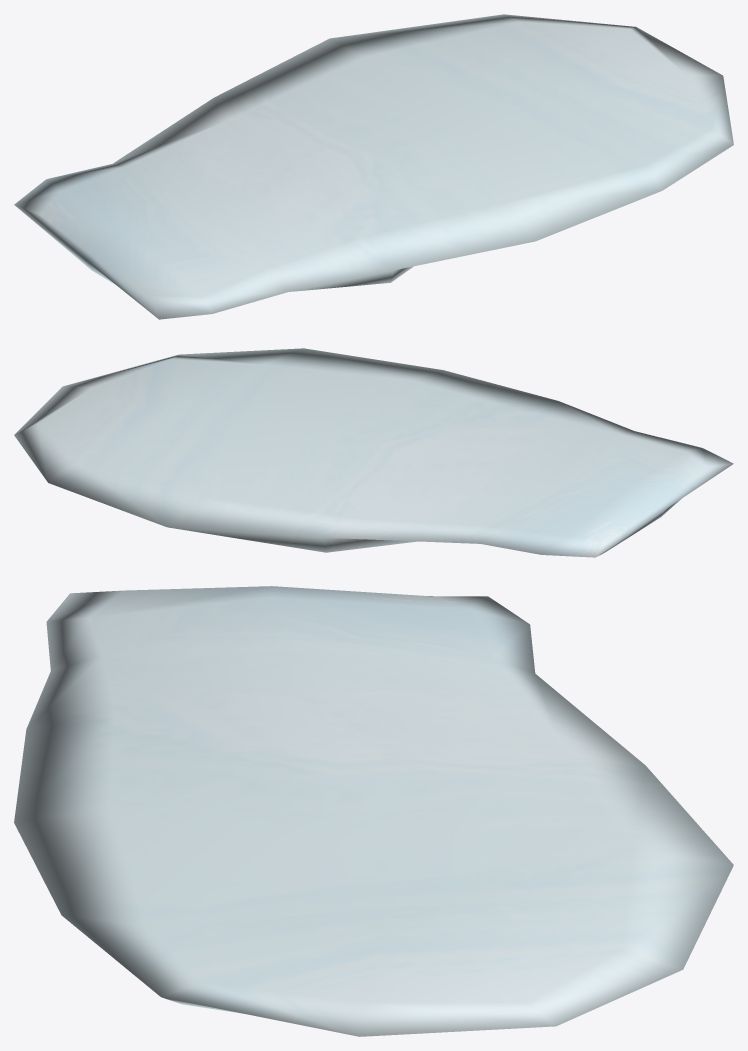
File: SnowMound_02.fbx
The picture shows the model from 3 angles, top to bottom: view 1: azimuth 30°, elevation 25°; view 2: azimuth 150°, elevation 25°; view 3: azimuth 270°, elevation 25°; orthographic projection. The views are drawn at different scales.
Visible parts, largest first — view 1: SnowMound.001; view 2: SnowMound.001; view 3: SnowMound.001.
Boxes of the visible parts, <box> form: SnowMound.001: <box>14,14,733,319</box>; SnowMound.001: <box>14,348,733,557</box>; SnowMound.001: <box>14,586,733,1036</box>.
Bounding box in the file's own units: 451 × 22.53 × 307.
